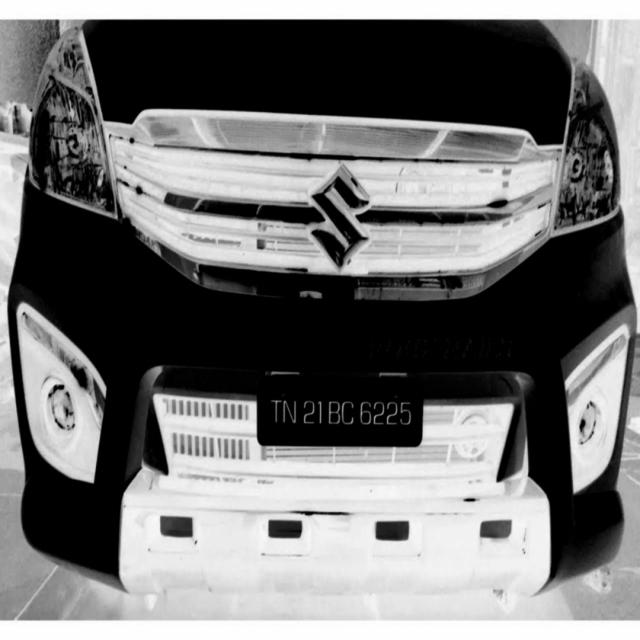Non_registered: (262, 381, 427, 449)
